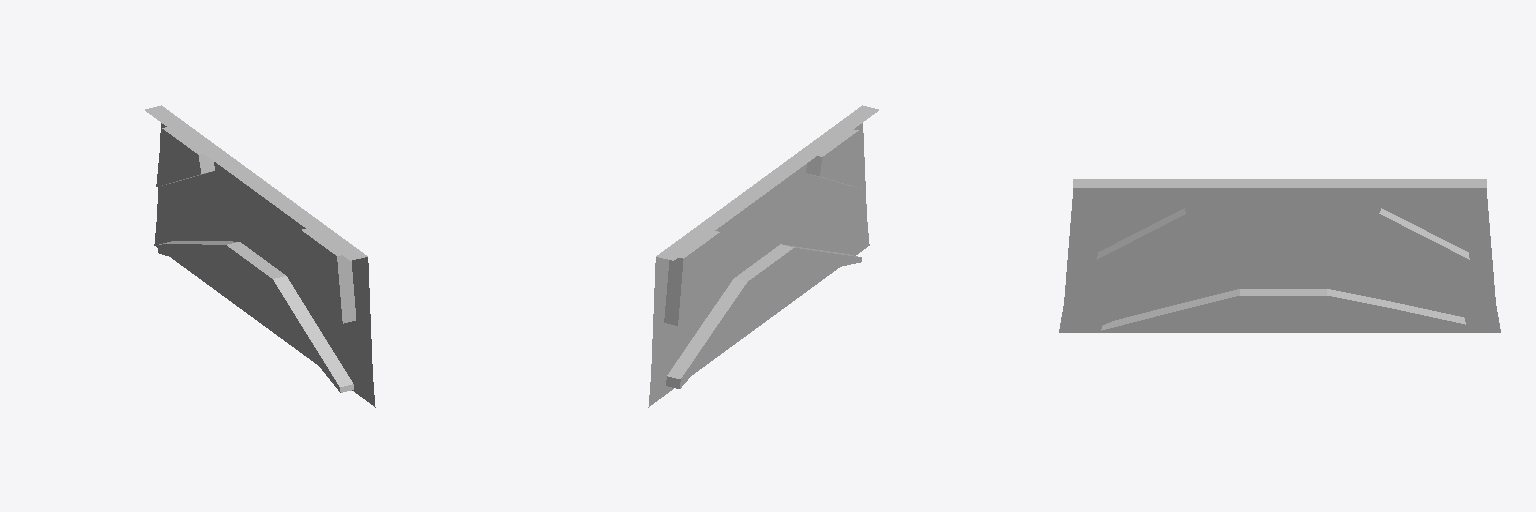
Rendered from Bottom Door UV.obj.
3 renders of one model, left to right at view 1: azimuth 30°, elevation 25°; view 2: azimuth 150°, elevation 25°; view 3: azimuth 270°, elevation 25°, orthographic.
Parts seen in each view (by area): view 1: polySurface5 pasted__polySurface26 group; view 2: polySurface5 pasted__polySurface26 group; view 3: polySurface5 pasted__polySurface26 group.
Boxes of the visible parts, x1,y1,x2,y2 form: polySurface5 pasted__polySurface26 group: [145, 105, 375, 407]; polySurface5 pasted__polySurface26 group: [648, 105, 878, 407]; polySurface5 pasted__polySurface26 group: [1059, 179, 1500, 332].
Bounding box in the file's own units: 0.4719 × 3.66 × 10.09.